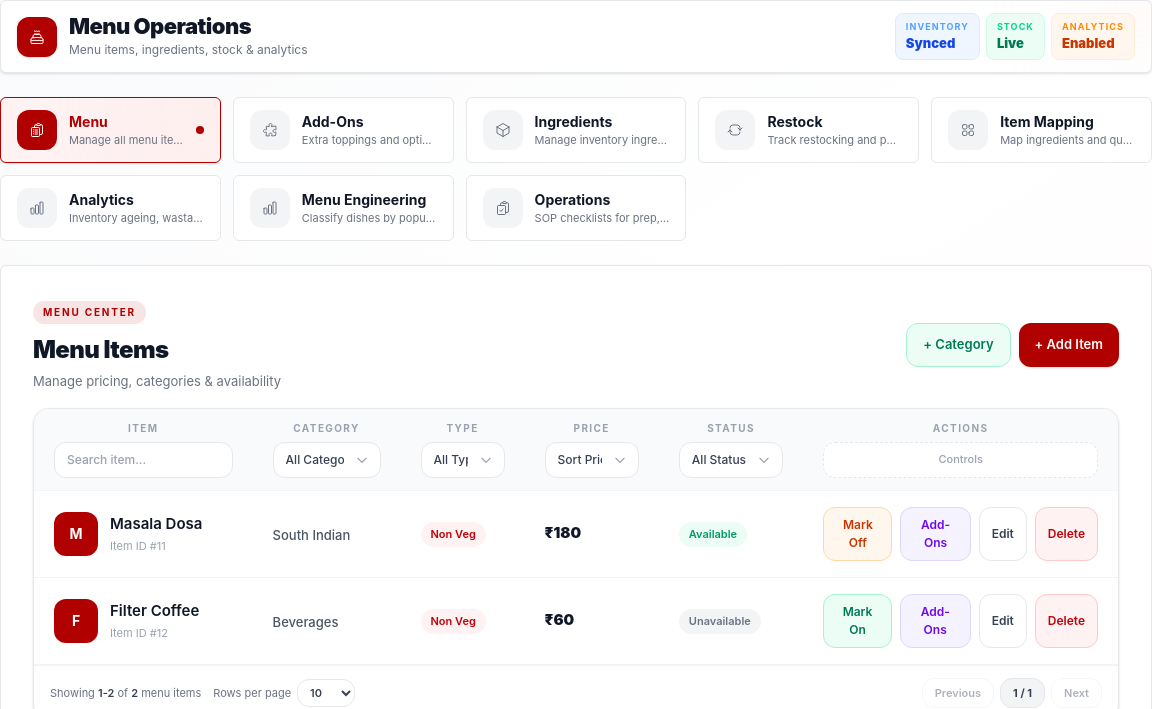
Scenario: Menu Management — characterisation › renders the restock tab's own content
This screenshot has width=1152, height=709.
Expected: the heading "Menu Operations" is shown, 69,12 -> 251,38
Step 1. Click the button "Restock" → {"x": 809, "y": 130}, box 698,97 -> 919,163
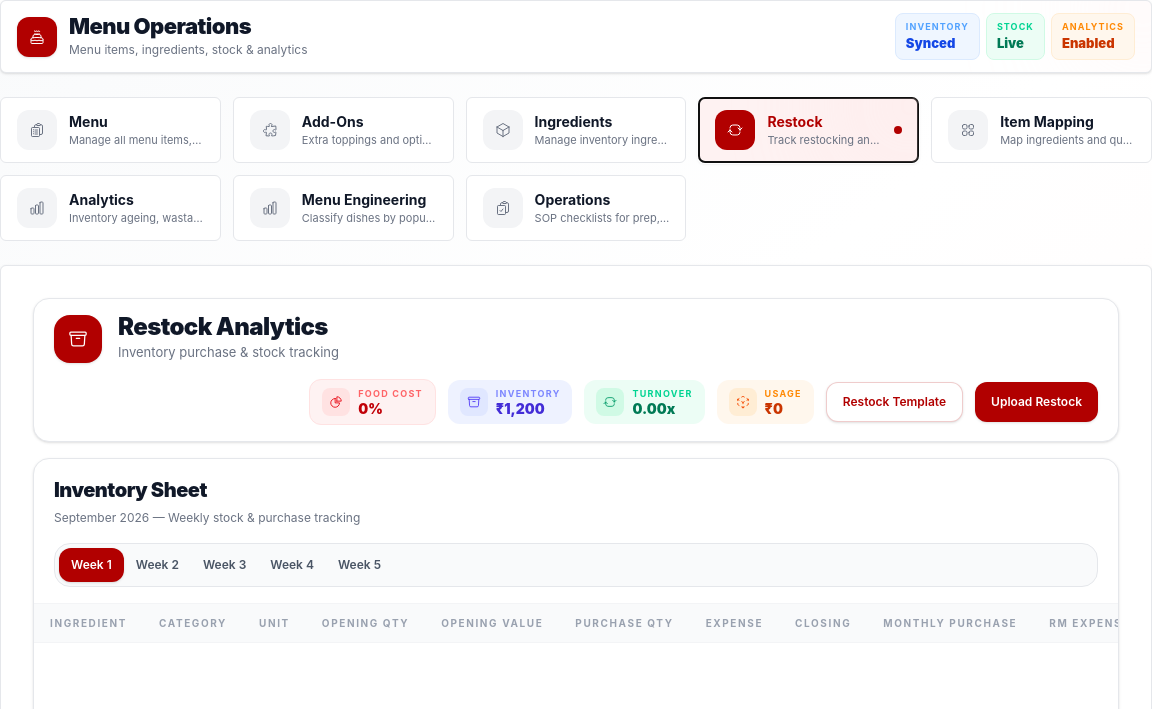
Now the column heading "Opening Value" is shown, box 425,604 -> 559,643
